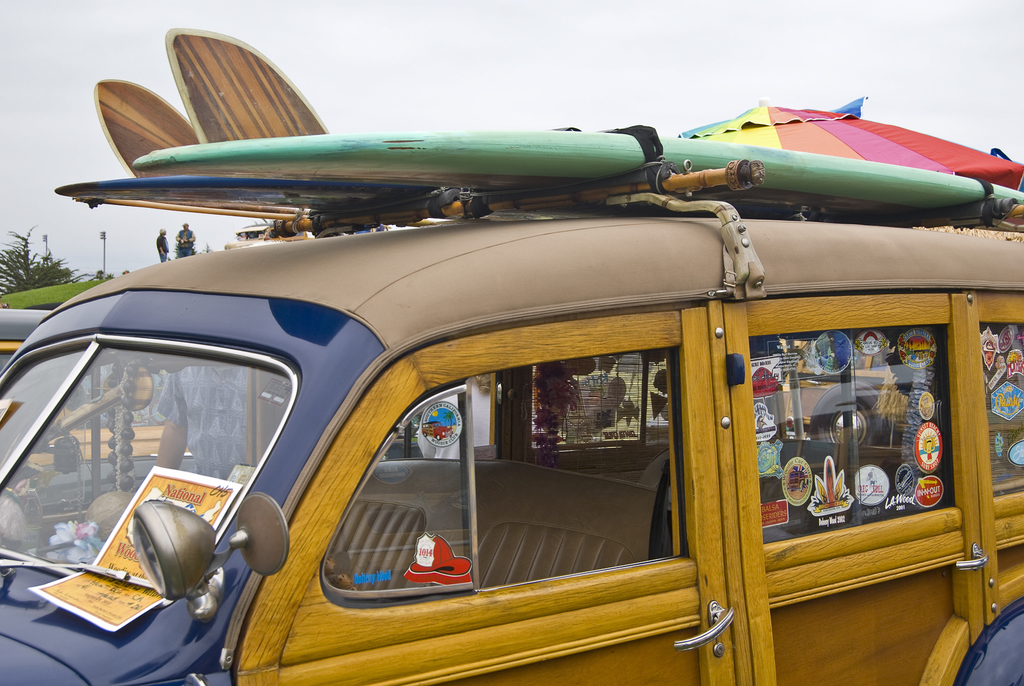Car: (0, 161, 1023, 685), (0, 305, 190, 466)
